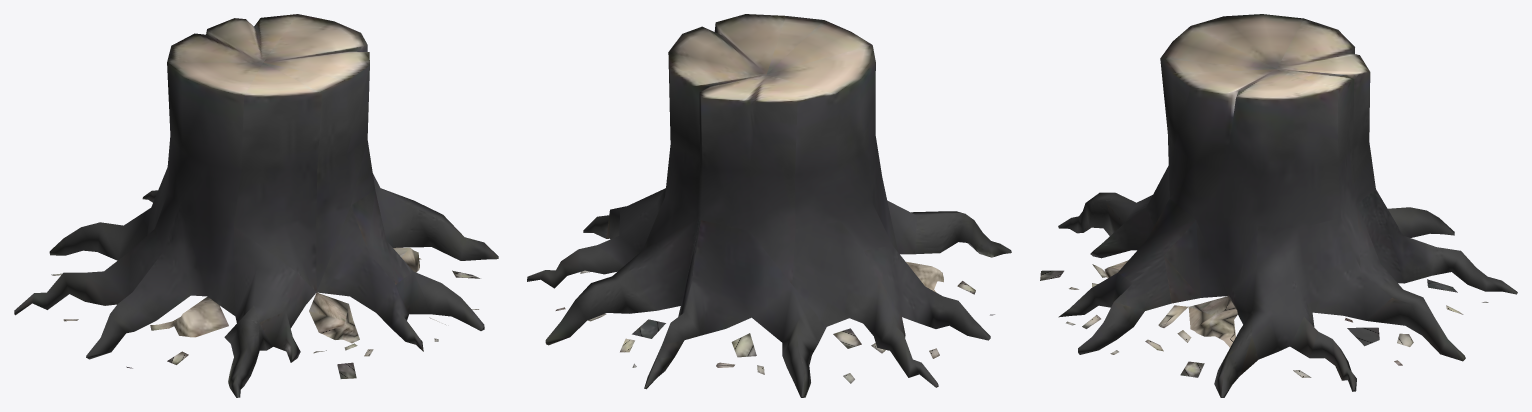
The model's file is prop_node_stump.glb.
3 renders of one model, left to right at view 1: azimuth 30°, elevation 25°; view 2: azimuth 150°, elevation 25°; view 3: azimuth 270°, elevation 25°, orthographic.
Parts seen in each view (by area): view 1: tripo_node_f73913ae-4292-49f3-a819-a58cf6eec1c2; view 2: tripo_node_f73913ae-4292-49f3-a819-a58cf6eec1c2; view 3: tripo_node_f73913ae-4292-49f3-a819-a58cf6eec1c2.
Part boxes in pixels (x1=…): tripo_node_f73913ae-4292-49f3-a819-a58cf6eec1c2: x1=14, y1=14, x2=498, y2=397; tripo_node_f73913ae-4292-49f3-a819-a58cf6eec1c2: x1=527, y1=14, x2=1011, y2=397; tripo_node_f73913ae-4292-49f3-a819-a58cf6eec1c2: x1=1040, y1=14, x2=1517, y2=397.
Size of the model in its own units: 0.998 by 0.5566 by 0.9864.
Materials: 1 (1 with a texture image).
